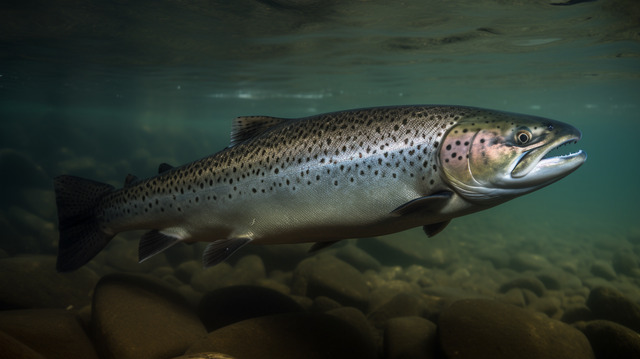Chinook salmon: (48, 102, 589, 279)
